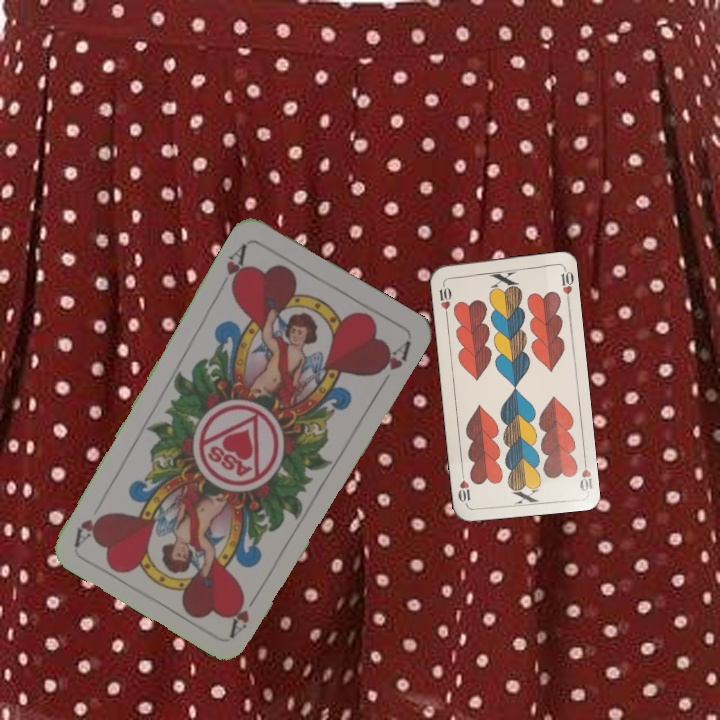H10: (575, 453, 595, 494), (435, 278, 454, 319)
HA: (226, 585, 263, 639), (215, 240, 250, 295)
